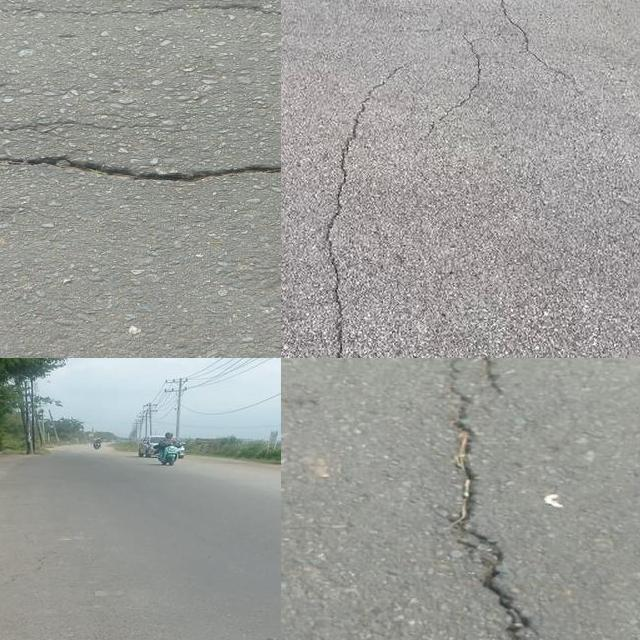Melintang: (0, 144, 281, 199)
Memanjang: (429, 358, 558, 640), (313, 59, 405, 358), (494, 0, 573, 89)
